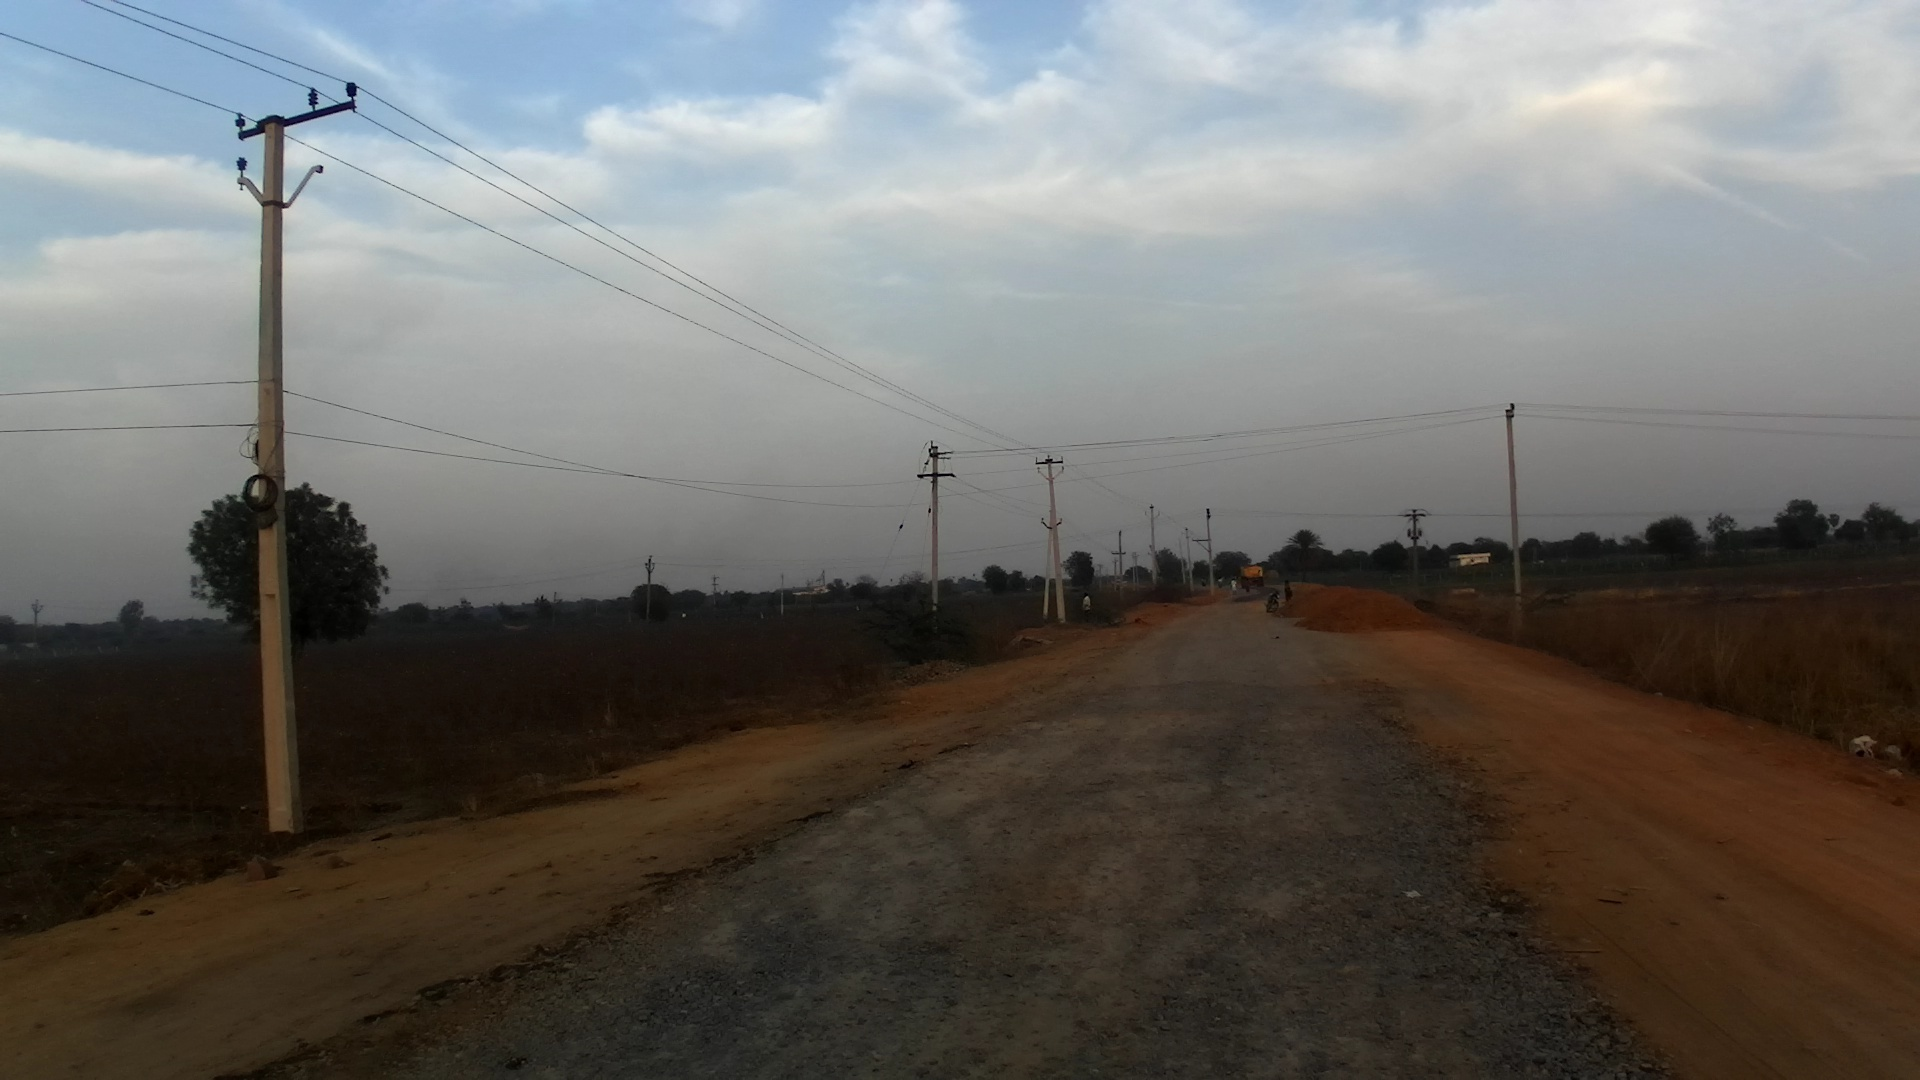motorcycle: (1264, 592, 1286, 621)
person: (1076, 592, 1093, 619), (1281, 582, 1293, 605), (1228, 581, 1239, 595)
truck: (1240, 564, 1267, 589)
